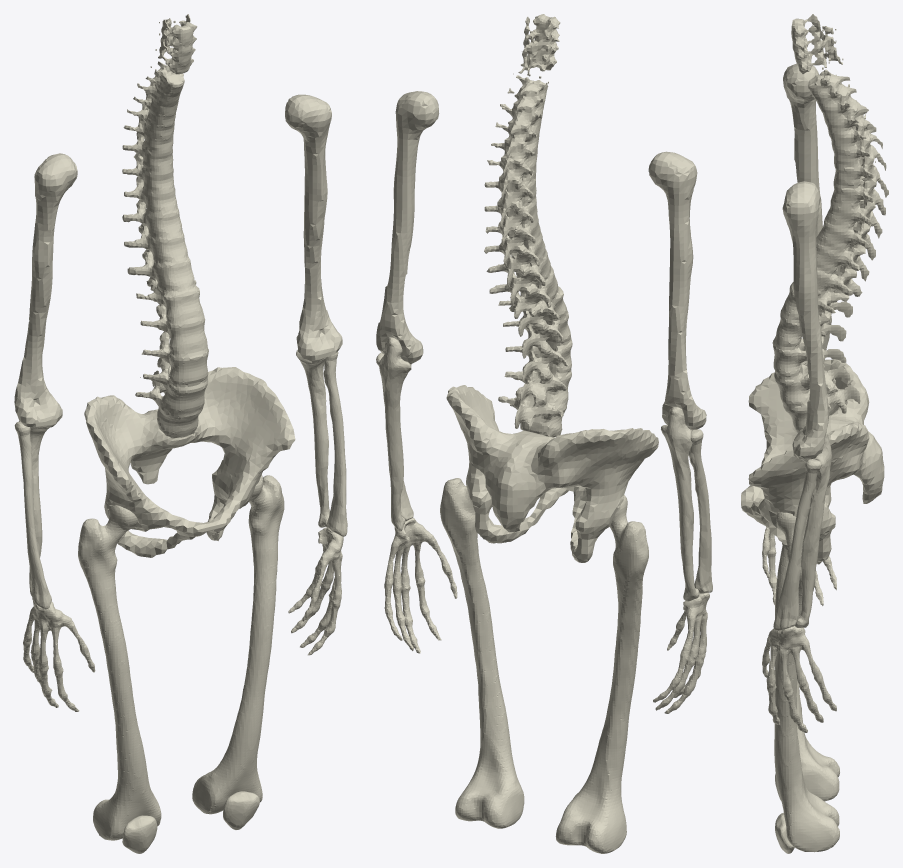
Rendered from skelett_update_n.gltf.
The picture shows the model from 3 angles, left to right: view 1: azimuth 30°, elevation 25°; view 2: azimuth 150°, elevation 25°; view 3: azimuth 270°, elevation 25°; orthographic projection.
Parts seen in each view (by area): view 1: Object_13, Object_5, Object_12, Object_9, Object_17, Object_18, Object_10, Object_20; view 2: Object_13, Object_5, Object_12, Object_9, Object_17, Object_10, Object_18; view 3: Object_5, Object_12, Object_9, Object_13, Object_17, Object_10, Object_18, Object_20.
Boxes of the visible parts, left/top/right/bottom form: Object_13: left=78, top=475, right=284, bottom=840; Object_5: left=122, top=14, right=208, bottom=438; Object_12: left=84, top=367, right=295, bottom=557; Object_9: left=14, top=94, right=342, bottom=427; Object_17: left=23, top=527, right=343, bottom=711; Object_18: left=14, top=351, right=347, bottom=609; Object_10: left=19, top=350, right=329, bottom=595; Object_20: left=122, top=791, right=259, bottom=853; Object_13: left=440, top=478, right=648, bottom=853; Object_5: left=484, top=14, right=572, bottom=437; Object_12: left=446, top=385, right=658, bottom=562; Object_9: left=376, top=91, right=706, bottom=429; Object_17: left=384, top=517, right=709, bottom=713; Object_10: left=379, top=337, right=699, bottom=601; Object_18: left=376, top=352, right=712, bottom=593; Object_5: left=772, top=14, right=888, bottom=432; Object_12: left=741, top=359, right=884, bottom=564; Object_9: left=782, top=63, right=828, bottom=459; Object_13: left=774, top=512, right=839, bottom=852; Object_17: left=762, top=526, right=836, bottom=732; Object_10: left=794, top=316, right=831, bottom=627; Object_18: left=773, top=349, right=821, bottom=630; Object_20: left=775, top=774, right=794, bottom=853.
Size of the model in its own units: 1.87 by 4.54 by 0.7518.
